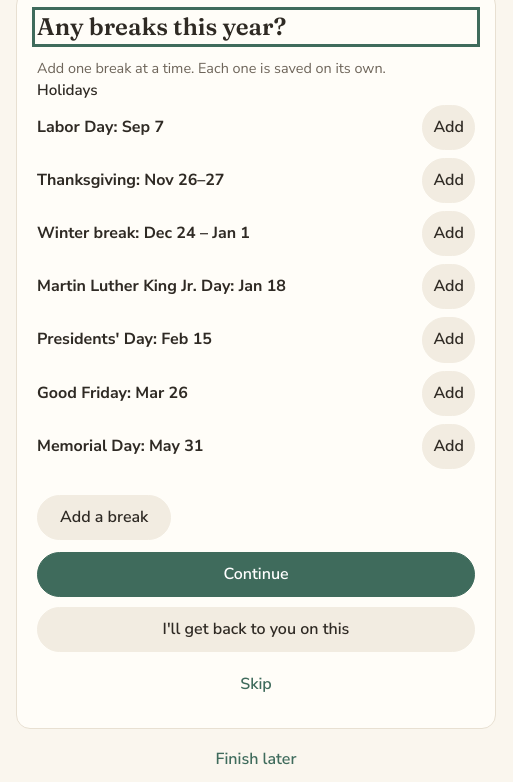
it: the other two buttons › keeps the reminder for the school year while breaks are added or skipped
The width and height of the screenshot is (513, 782).
(page scrolled)
expect the heading "Any breaks this year?" is shown: met, box left=37, top=12, right=286, bottom=41
expect the element "Holidays" is shown: met, box left=37, top=78, right=475, bottom=483
Click the button "Skip": (256, 685) left=37, top=662, right=475, bottom=708
(page scrolled)
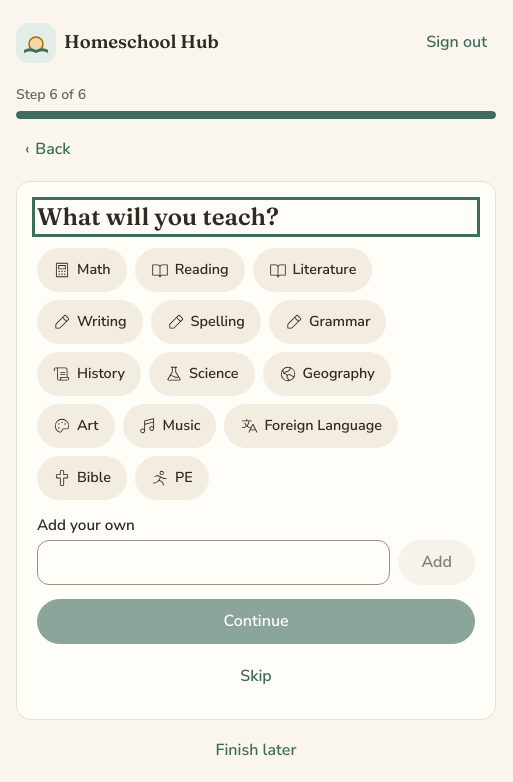
expect the text "Step 6 of 6" is shown: met, box left=16, top=85, right=86, bottom=104
